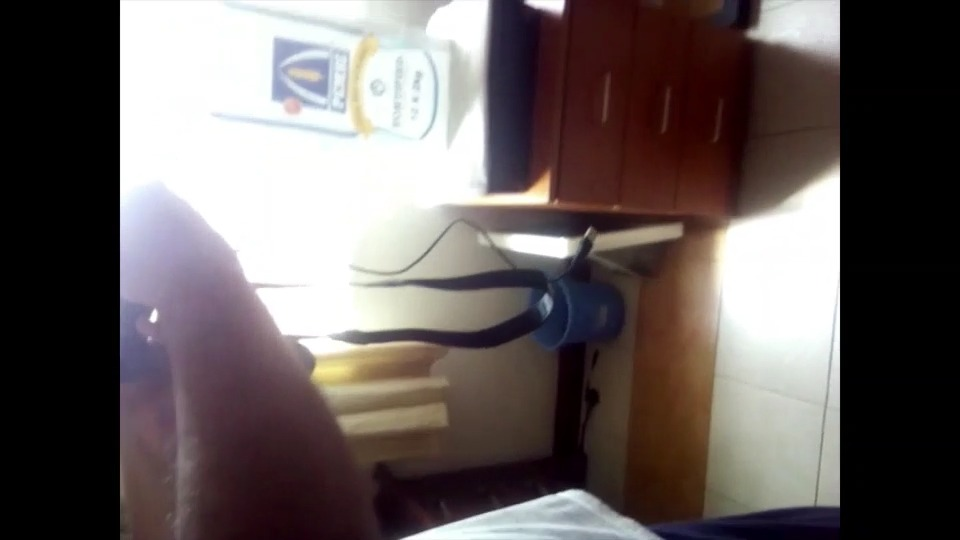wheat_flour_blue_label: (199, 2, 470, 166)
